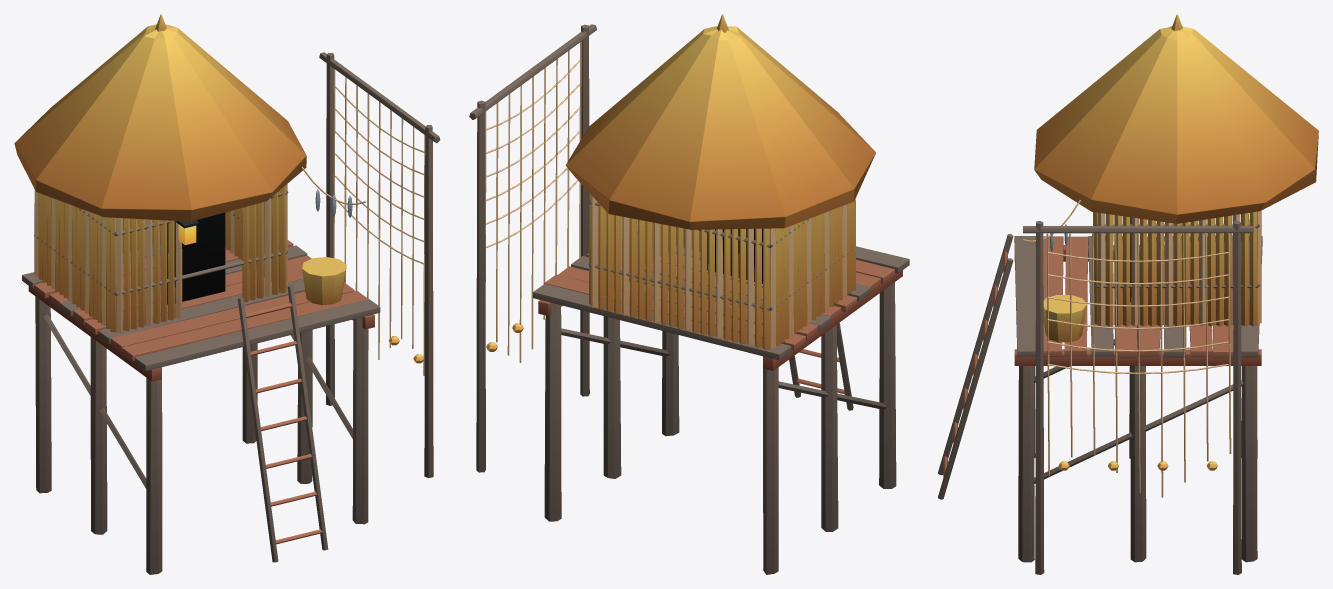
The model's file is fishing_hut_stilts.glb.
3 views of the same model, side by side, from view 1: azimuth 30°, elevation 25°; view 2: azimuth 150°, elevation 25°; view 3: azimuth 270°, elevation 25° (orthographic). The views are drawn at different scales.
Visible parts, largest first — view 1: fishing_hut_stilts; view 2: fishing_hut_stilts; view 3: fishing_hut_stilts.
Part boxes in pixels (box(x1,y1,x2,y2)): fishing_hut_stilts: box(14, 14, 440, 574); fishing_hut_stilts: box(469, 14, 909, 574); fishing_hut_stilts: box(938, 14, 1318, 574).
Size of the model in its own units: 4.65 by 6.49 by 4.62.
2 materials, 2 textured.
